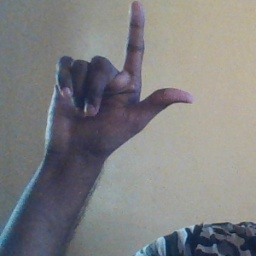L: (46, 2, 192, 153)
